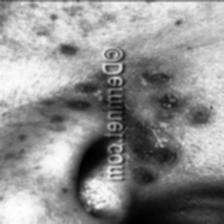Toxin: (132, 121, 173, 187), (71, 72, 106, 114), (157, 94, 181, 110), (191, 110, 212, 127), (148, 70, 172, 84), (60, 43, 76, 54)
